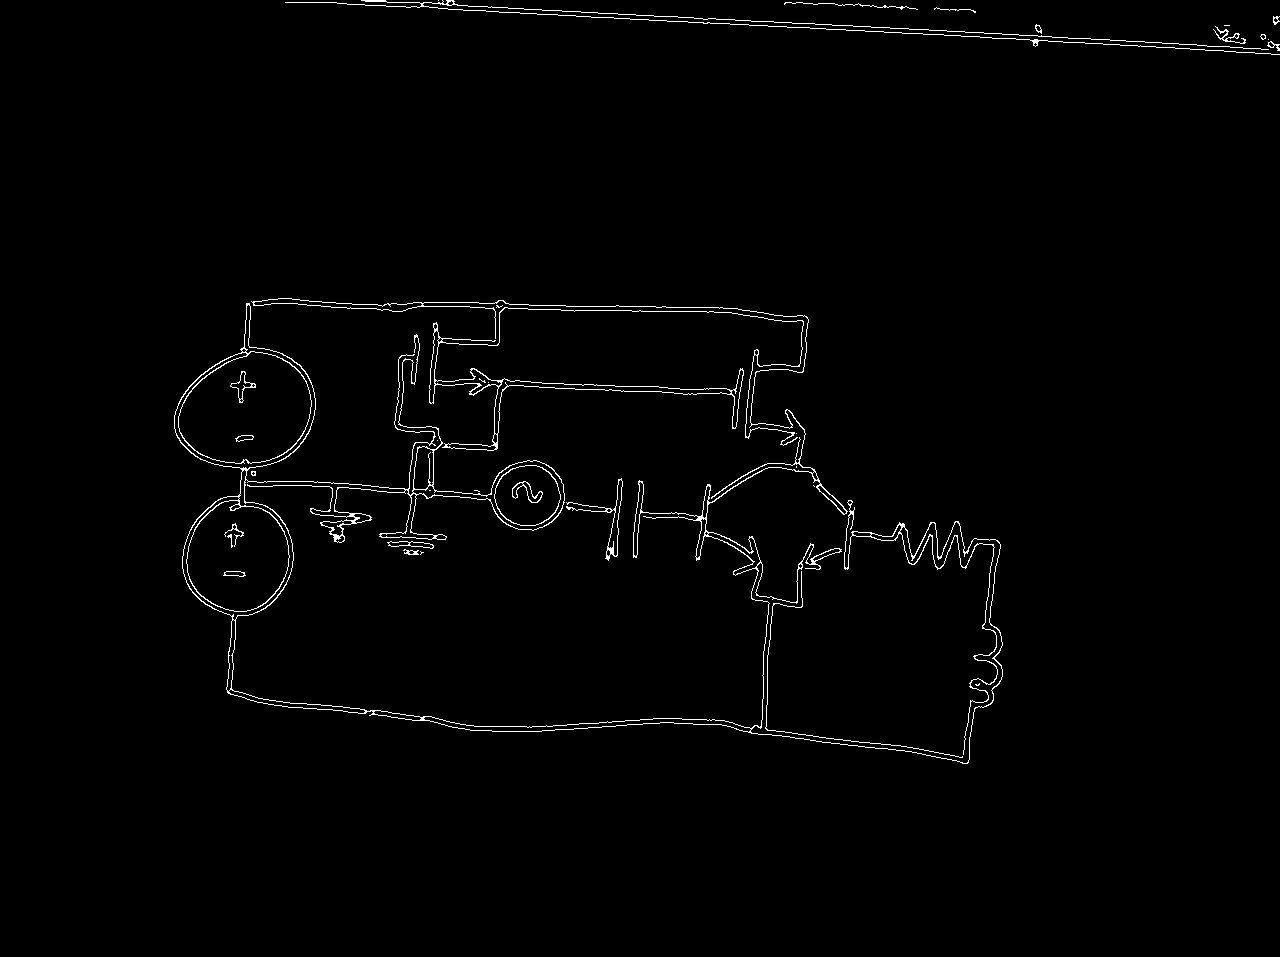capacitor: (594, 468, 664, 572)
ground0: (297, 490, 377, 572)
ground1: (374, 514, 451, 596)
inductor: (955, 601, 1010, 727)
resistor: (865, 514, 993, 572)
signal: (474, 455, 577, 536)
voltage: (166, 331, 320, 478), (176, 484, 300, 633)
